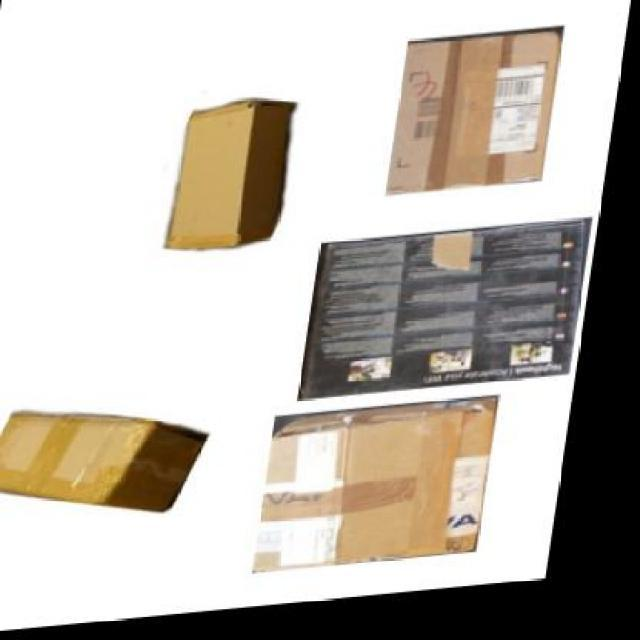box: (311, 228, 602, 408), (274, 404, 514, 578), (390, 40, 566, 204), (0, 402, 224, 526), (177, 100, 296, 254)
